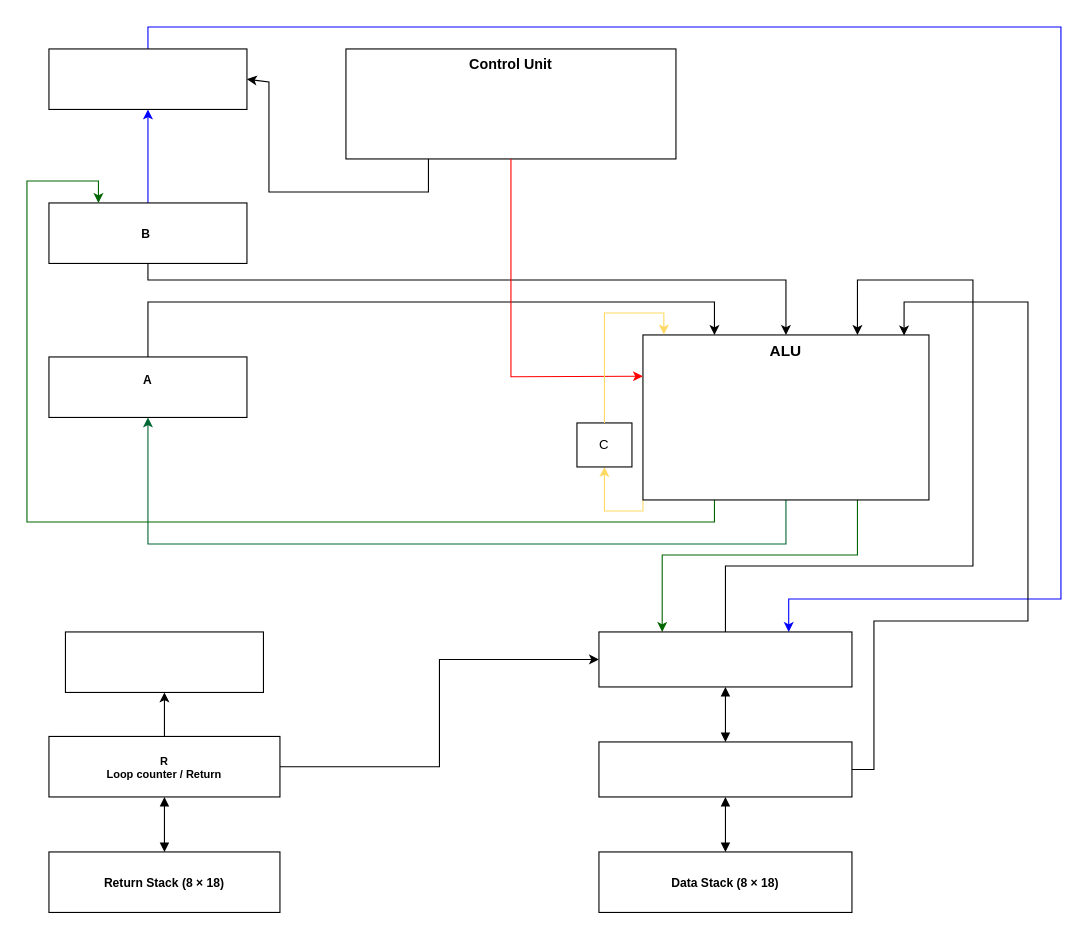
Image size: 1089x932. Some labels were removed from this diagram. Each missing label, with the box of its shape:
IO Control & Status (io) addr x15D: (48, 48, 247, 109)
P (10 bit) Program Counter: (64, 631, 263, 692)
S (Second of Data Stack): (598, 741, 852, 797)
T (Top of Data Stack): (598, 631, 852, 687)
